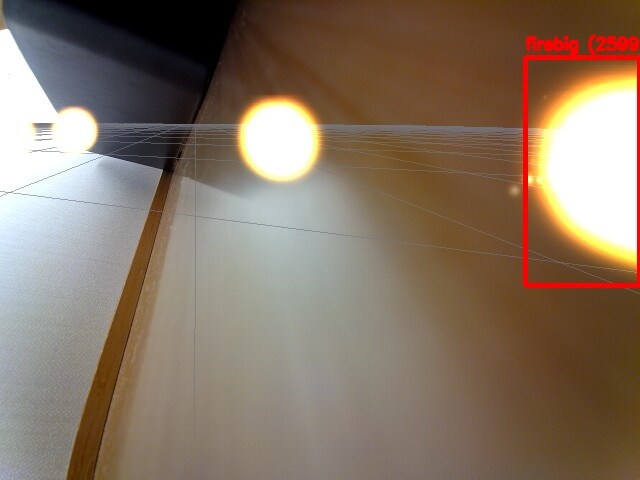firebig: (525, 57, 639, 285)
